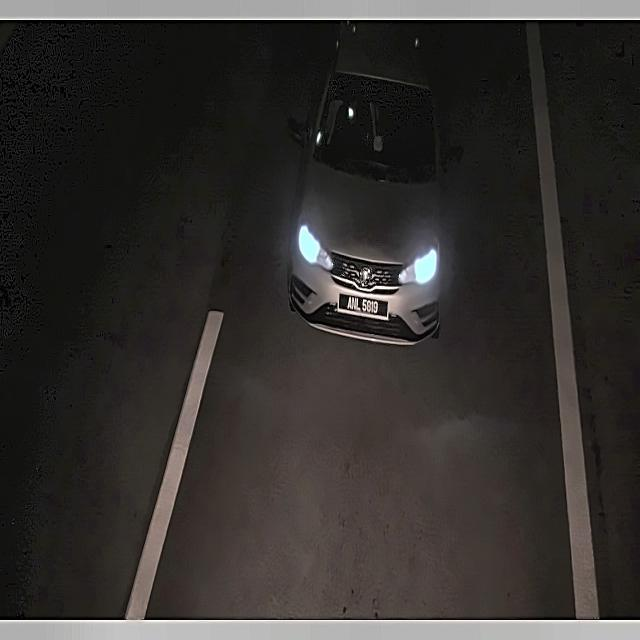car: (335, 290, 392, 323)
